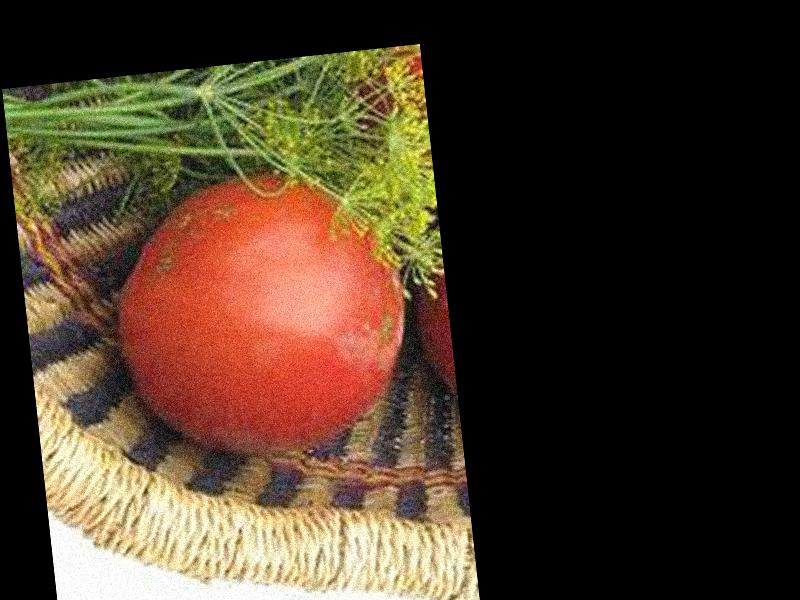Tomato: (106, 158, 419, 468)
